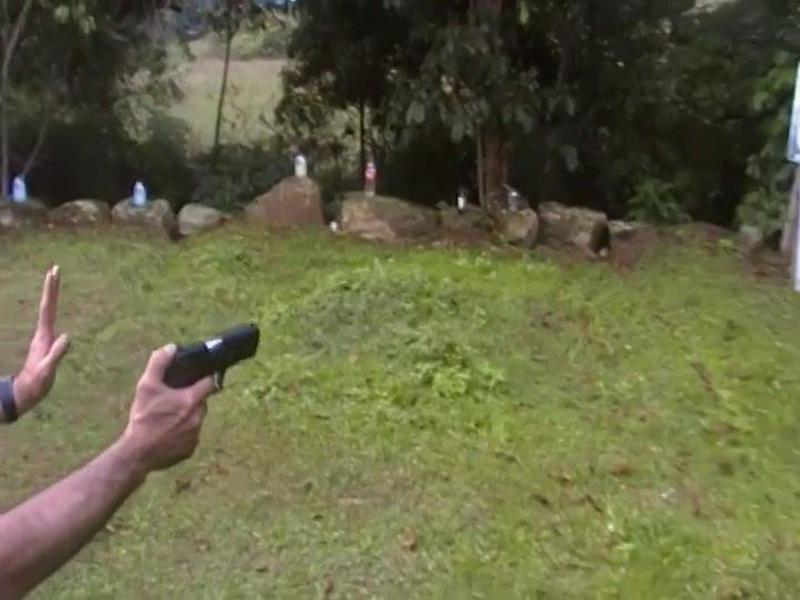Pistola: (137, 313, 274, 408)
